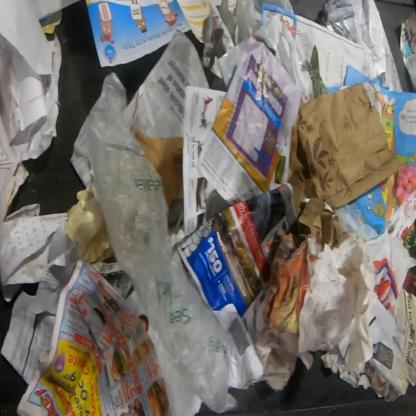cardboard: (129, 124, 183, 210), (296, 196, 350, 250)
soft_plastic: (83, 69, 241, 415), (330, 203, 415, 312), (234, 0, 295, 42)
